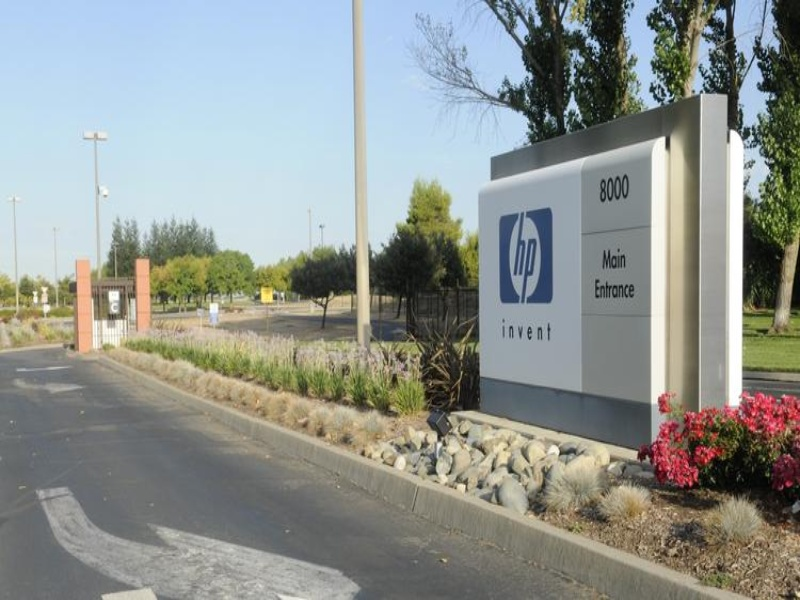hp: (503, 212, 544, 308)
